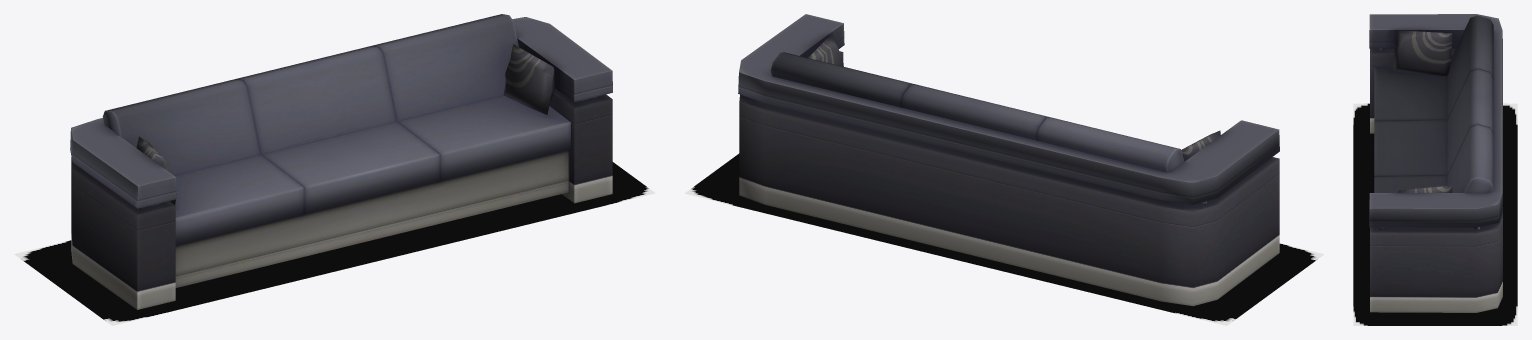
File: jj_ty_shafa07.FBX
3 renders of one model, left to right at view 1: azimuth 30°, elevation 25°; view 2: azimuth 150°, elevation 25°; view 3: azimuth 270°, elevation 25°, orthographic. The views are drawn at different scales.
Visible parts, largest first — view 1: jj_ty_shafa07, shadow; view 2: jj_ty_shafa07, shadow; view 3: jj_ty_shafa07, shadow.
Boxes of the visible parts, <box> form: jj_ty_shafa07: <box>70,14,612,309</box>; shadow: <box>14,162,655,325</box>; jj_ty_shafa07: <box>738,14,1279,306</box>; shadow: <box>684,153,1323,325</box>; jj_ty_shafa07: <box>1369,14,1502,312</box>; shadow: <box>1353,103,1517,325</box>.
Bounding box in the file's own units: 422 × 106 × 132.
